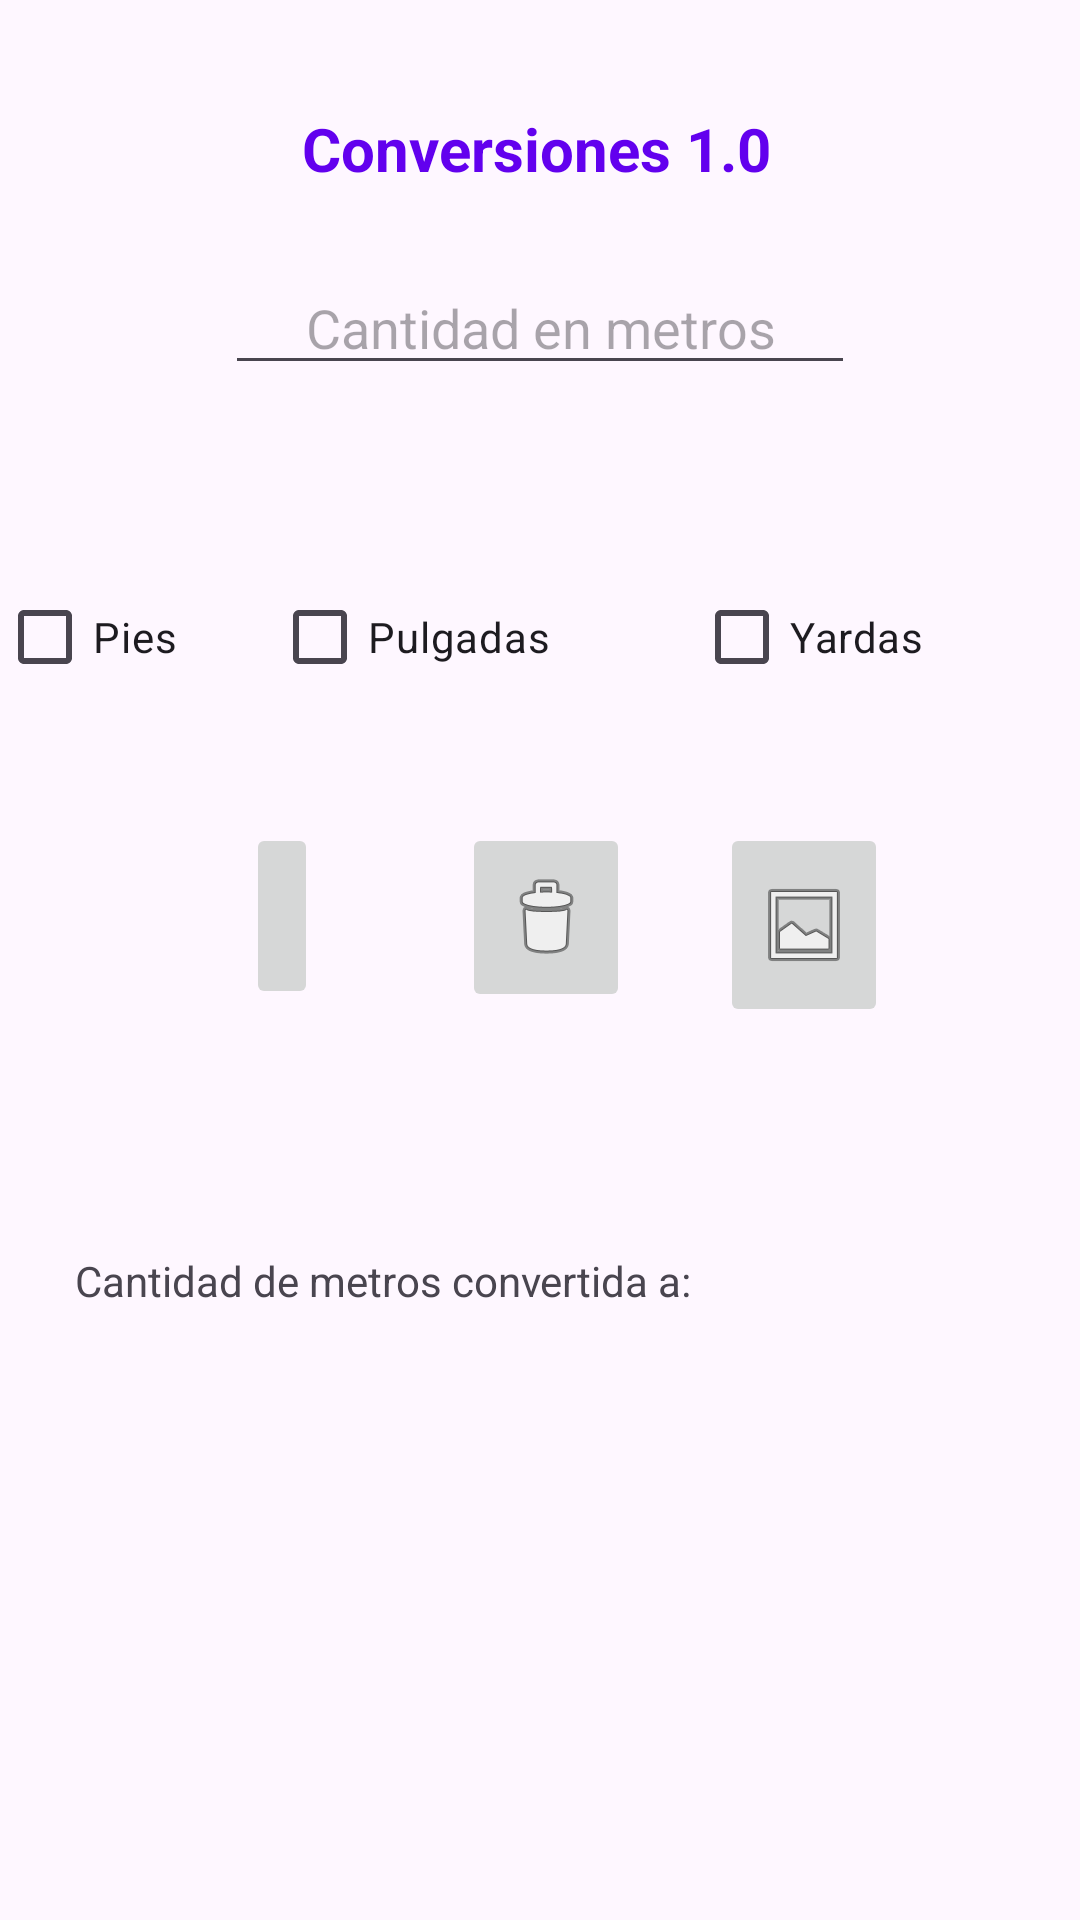

Point at icon controls on the screen. Image size 1080×1920, points as point (x, y).
delete: point (546, 917)
gallery: point (804, 925)
